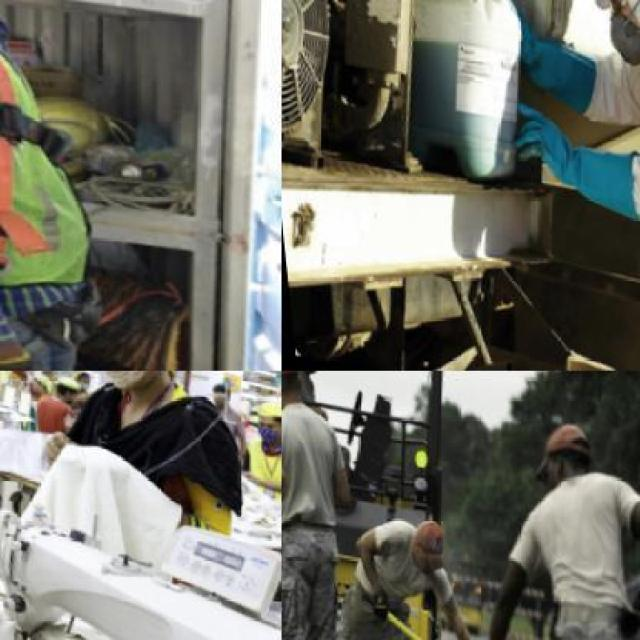Vest: (0, 0, 129, 295), (584, 0, 638, 368)
